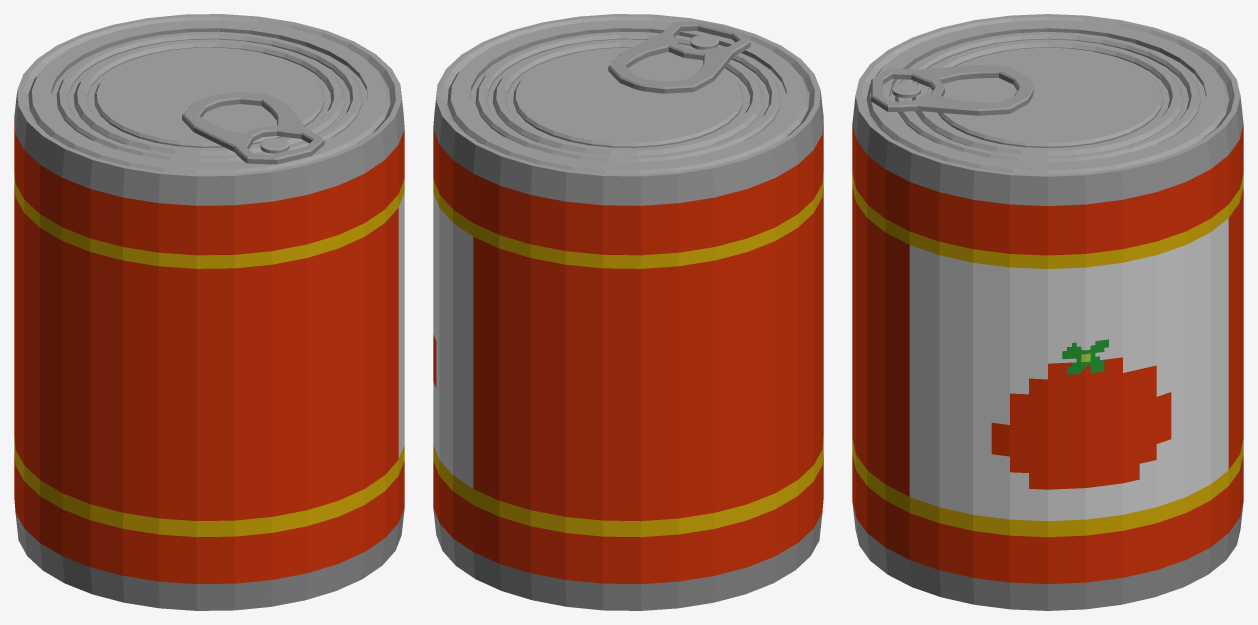
The model's file is soup.fbx.
3 renders of one model, left to right at view 1: azimuth 30°, elevation 25°; view 2: azimuth 150°, elevation 25°; view 3: azimuth 270°, elevation 25°, orthographic.
Visible parts, largest first — view 1: Cylinder, Cube; view 2: Cylinder, Cube; view 3: Cylinder, Cube.
Part boxes in pixels (x1,y1,x2,y2): Cylinder: (14, 14, 404, 610); Cube: (182, 92, 324, 164); Cylinder: (433, 14, 823, 610); Cube: (608, 21, 750, 93); Cylinder: (852, 14, 1243, 610); Cube: (871, 65, 1033, 115).
Bounding box in the file's own units: 55.84 × 69.45 × 55.84.
